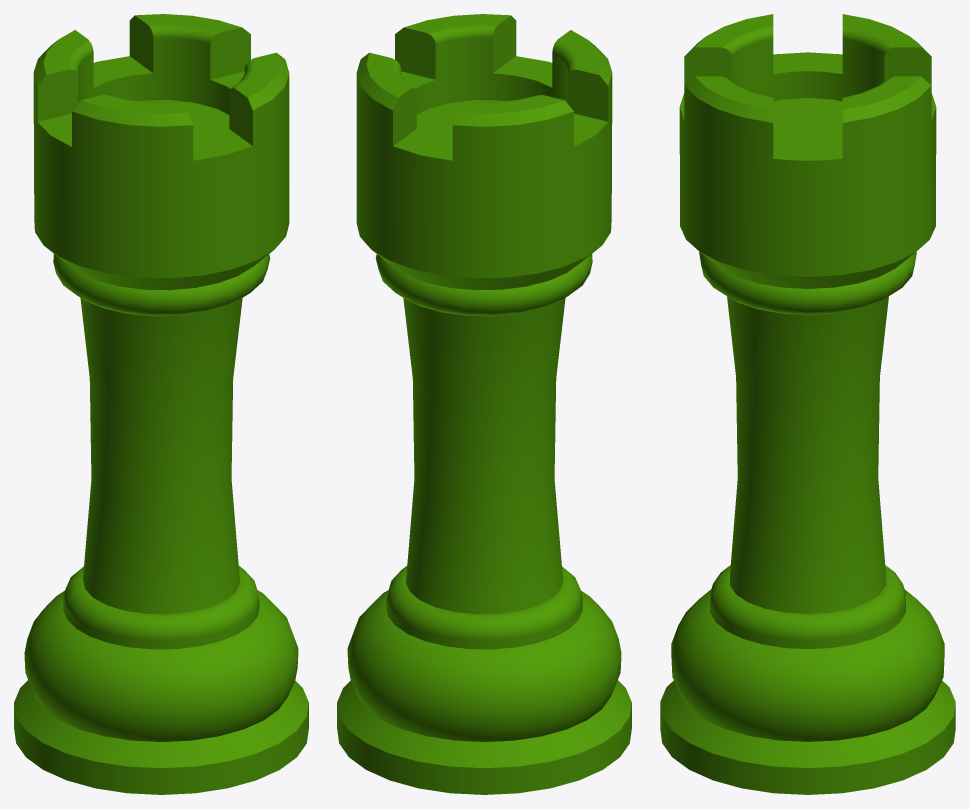
Rendered from rook.glb.
3 renders of one model, left to right at view 1: azimuth 30°, elevation 25°; view 2: azimuth 150°, elevation 25°; view 3: azimuth 270°, elevation 25°, orthographic.
Size of the model in its own units: 0.0299 by 0.075 by 0.0299.
